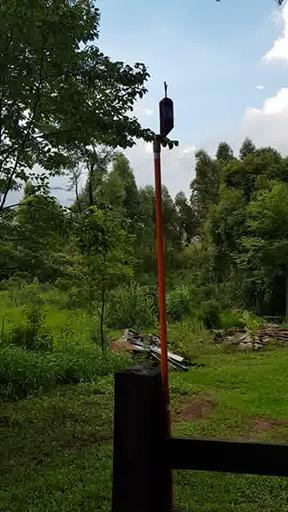Detector_Tensao_Contato: (158, 79, 176, 145)
Vara_Manobra: (151, 137, 170, 438)
